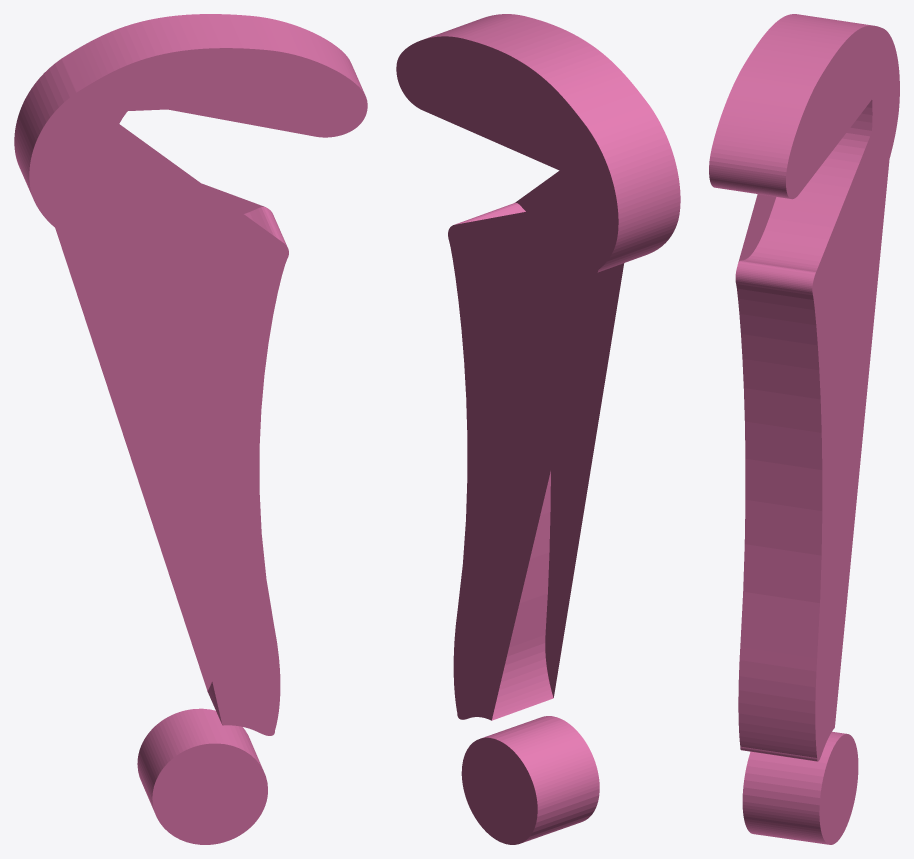
File: 023_Shadow_QuestionPole.fbx
3 renders of one model, left to right at view 1: azimuth 30°, elevation 25°; view 2: azimuth 150°, elevation 25°; view 3: azimuth 270°, elevation 25°, orthographic.
Visible parts, largest first — view 1: Curve.011; view 2: Curve.011; view 3: Curve.011.
Boxes of the visible parts, left/top/right/bottom form: Curve.011: left=14, top=14, right=367, bottom=844; Curve.011: left=396, top=14, right=680, bottom=844; Curve.011: left=709, top=14, right=899, bottom=844.
Size of the model in its own units: 125 by 312 by 68.11.
